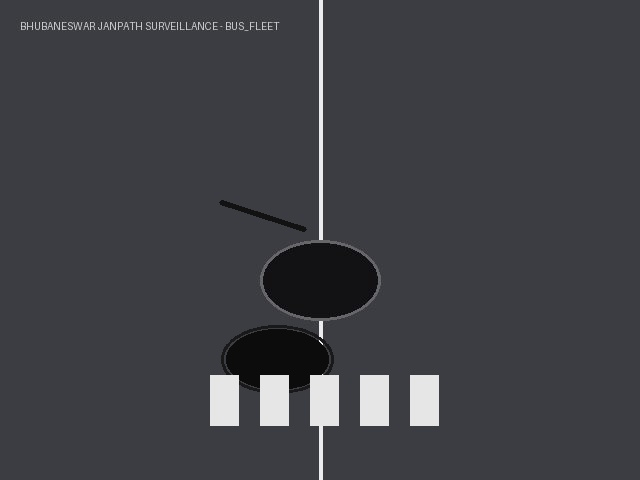crack: (215, 196, 310, 235)
pothole: (226, 329, 328, 389)
zebra_crossing: (190, 370, 450, 430)
